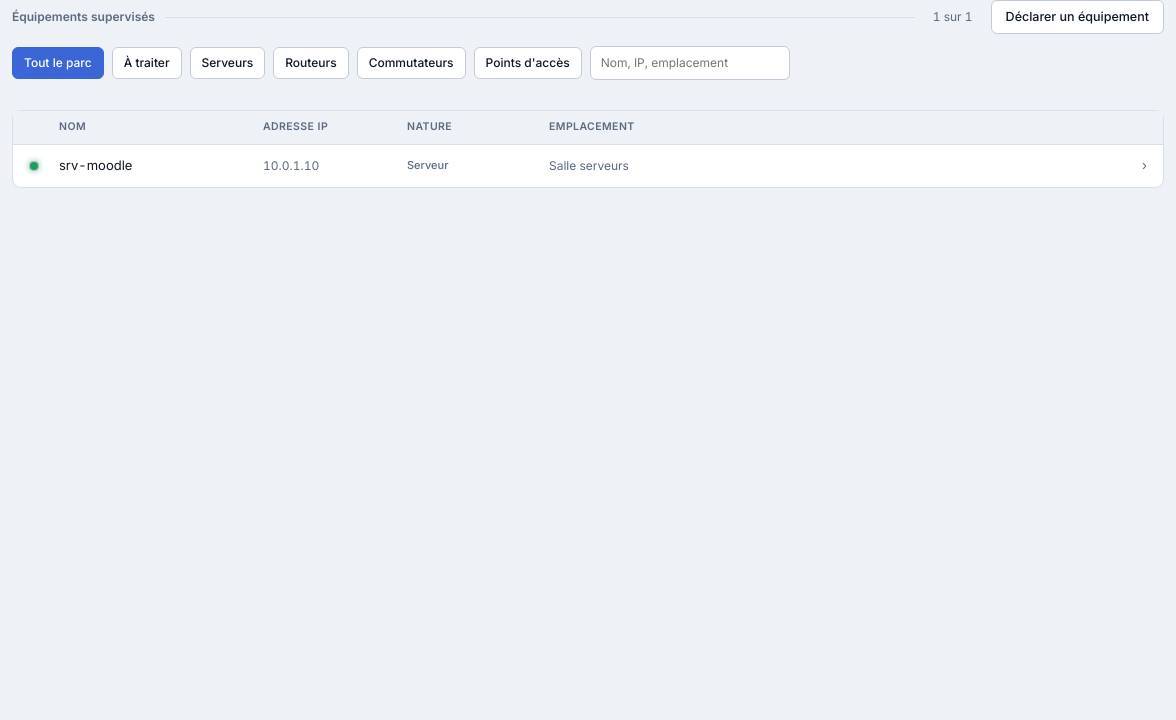
EquipementsPage › affiche tel quel le message de refus renvoyé par le backend
Click the button "srv-moodle 10.0.1.10 Serveur Salle serveurs ›": [588, 166] box [13, 144, 1163, 186]
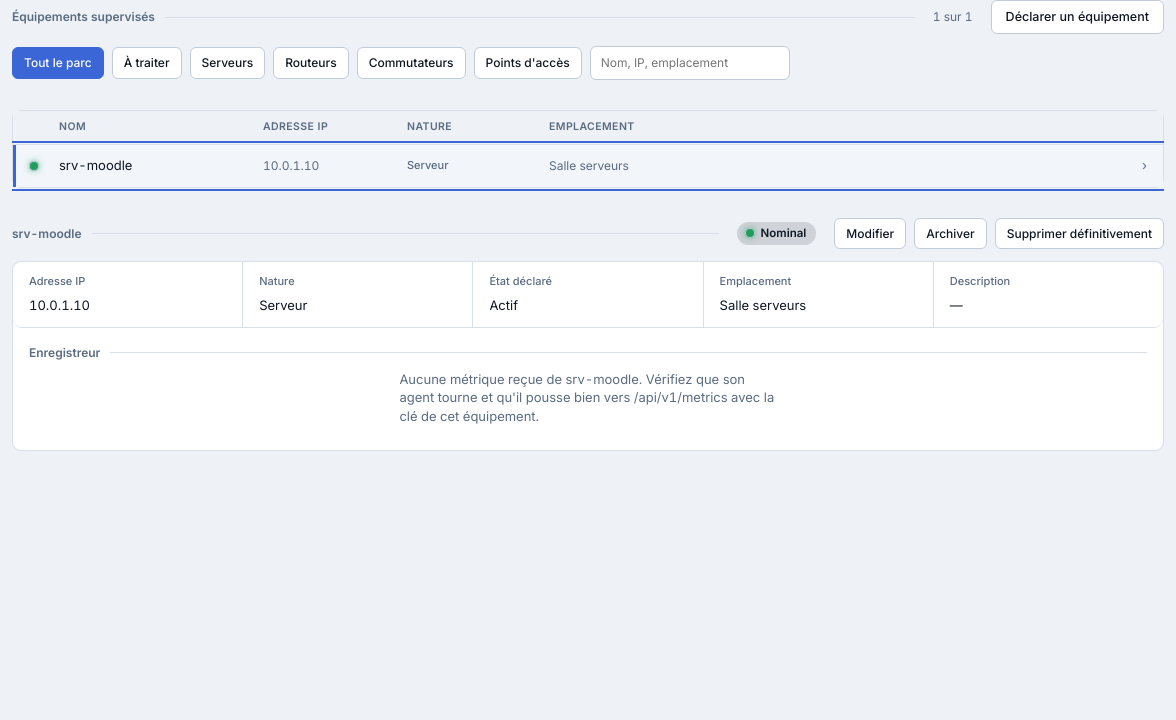
Click the button "Supprimer définitivement": [1079, 233] box [995, 218, 1164, 249]
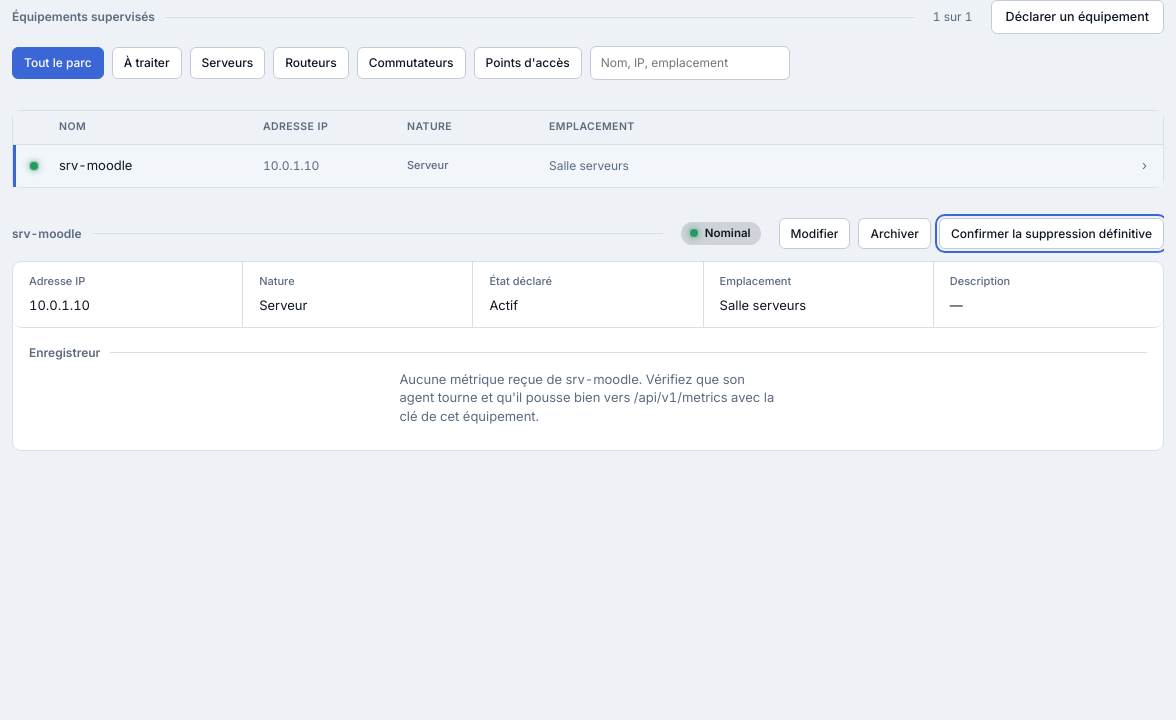
Click the button "Confirmer la suppression définitive": [1051, 233] box [939, 218, 1164, 249]
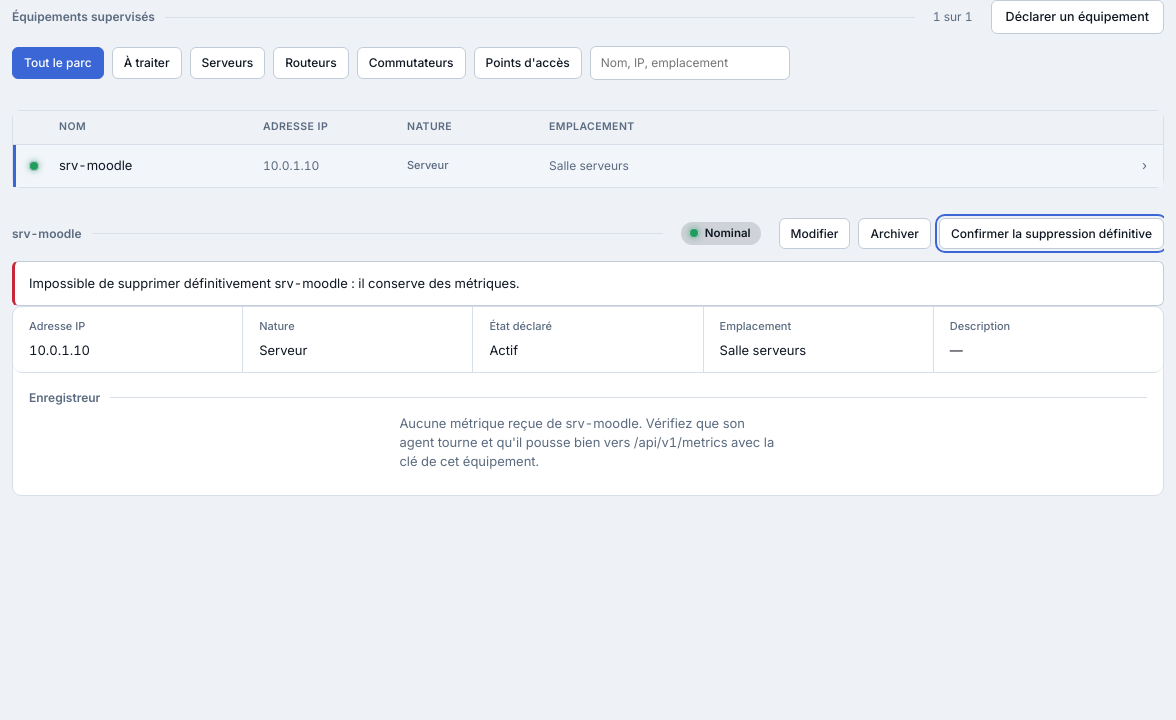
Now the text "Impossible de supprimer définitivement srv-moodle : il conserve des métriques." is shown, box [12, 261, 1164, 306]
